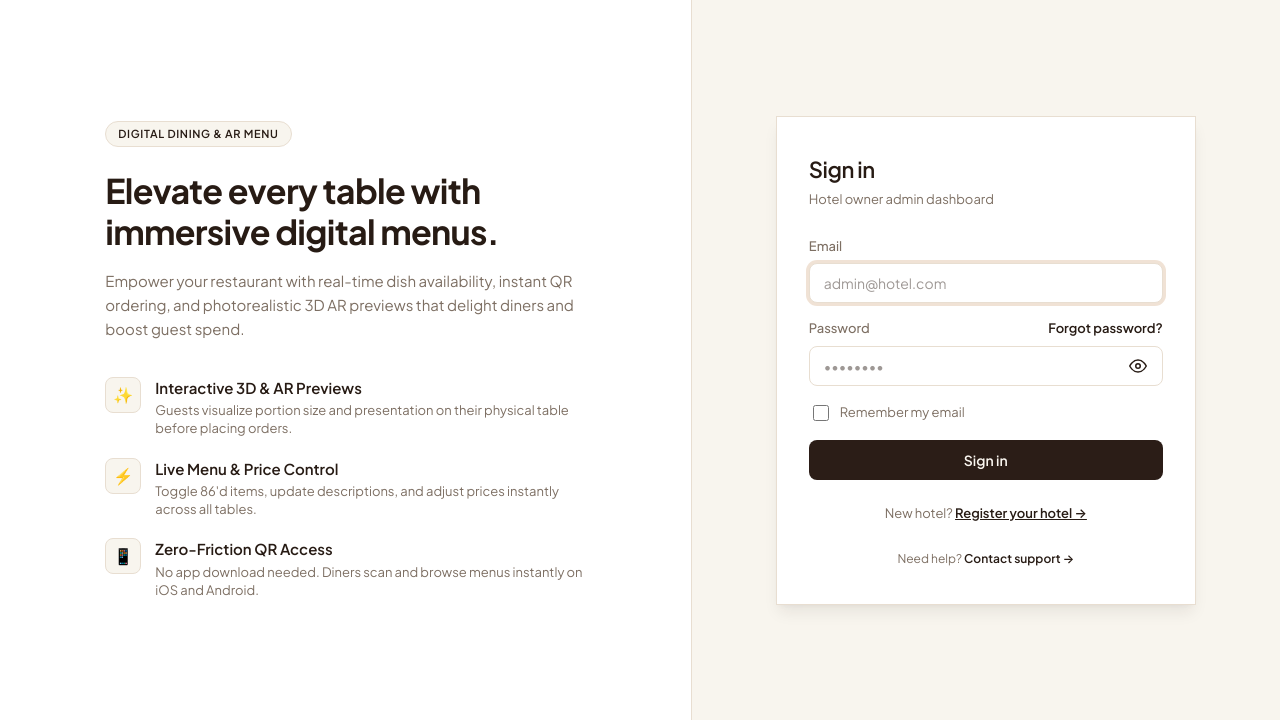
Test: Admin Authentication Suite (TC-ADM-001 to TC-ADM-020) › TC-ADM-006: Shows unlinked hotel warning when user has no hotel
The width and height of the screenshot is (1280, 720).
Type "unlinked@hotel.com" into the field with placeholder "admin@hotel.com" at (986, 282), box [809,262,1163,302]
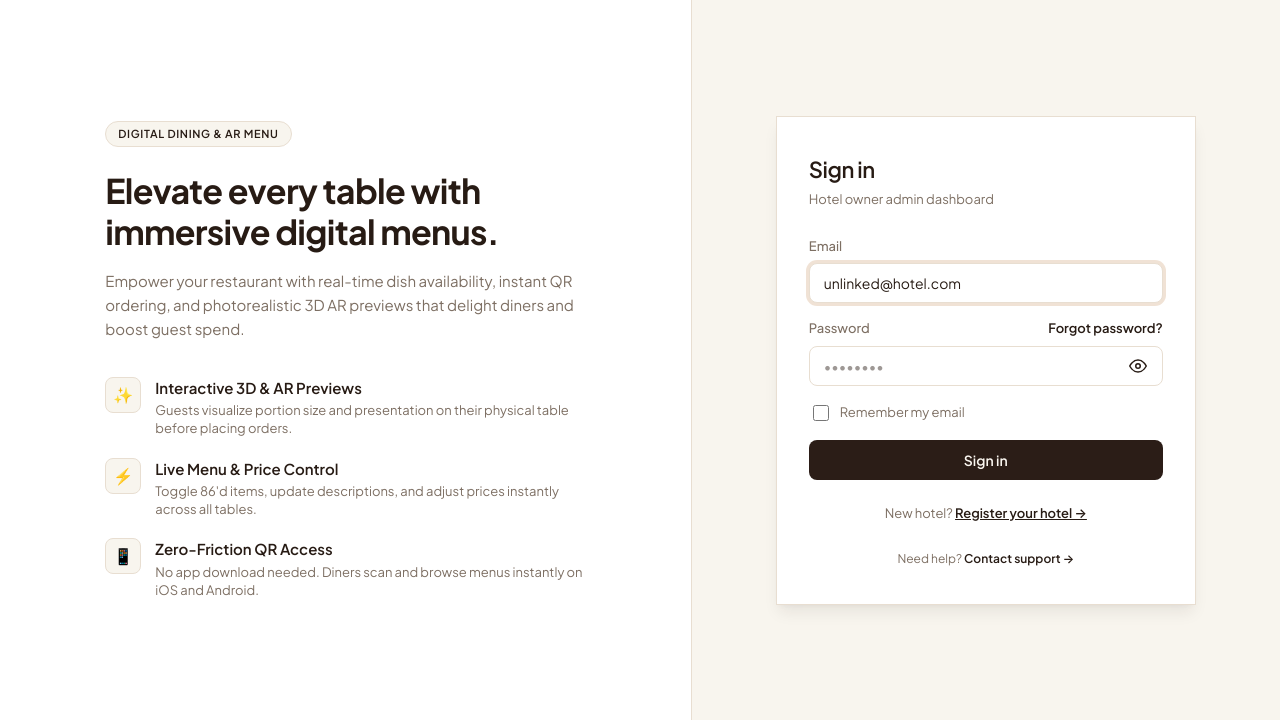
Type "password123" into the password field with placeholder "••••••••" at (986, 366), box [809,346,1163,386]
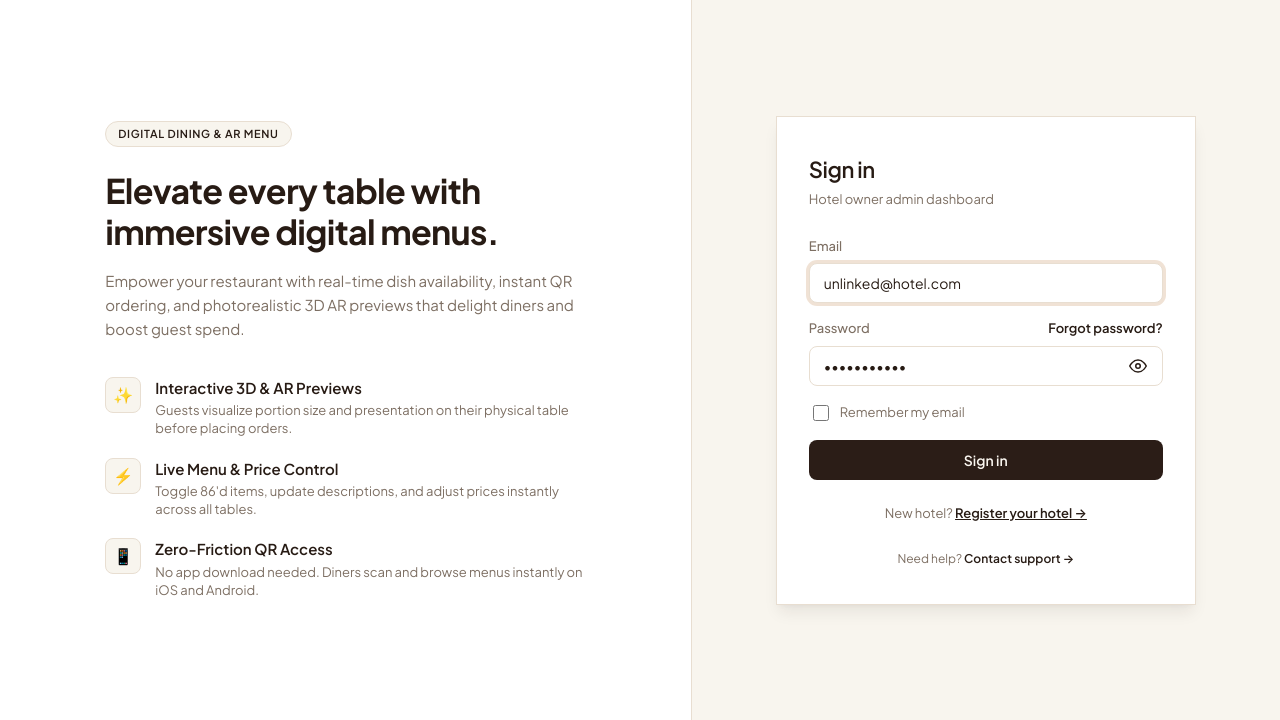
Click the button "Sign in" at (986, 460), box [809,440,1163,480]
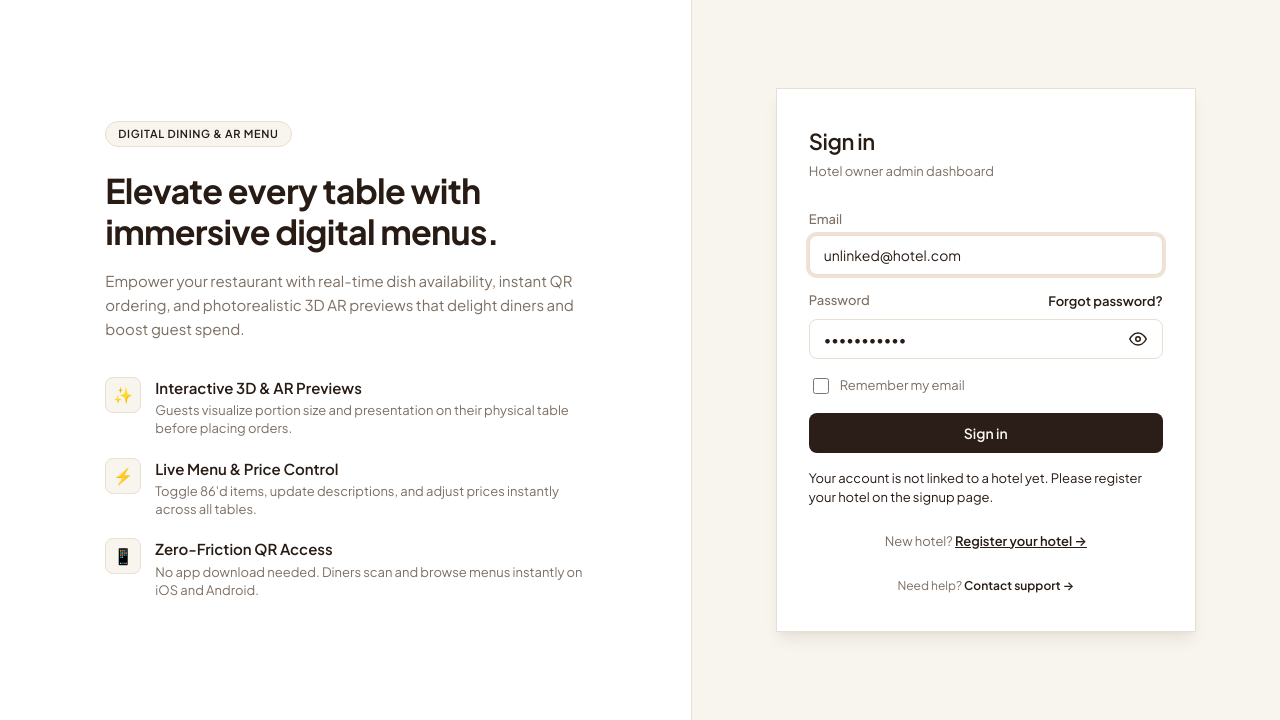
Check: the text "Your account is not linked to a hotel yet" is shown, box [809,470,1142,505]
